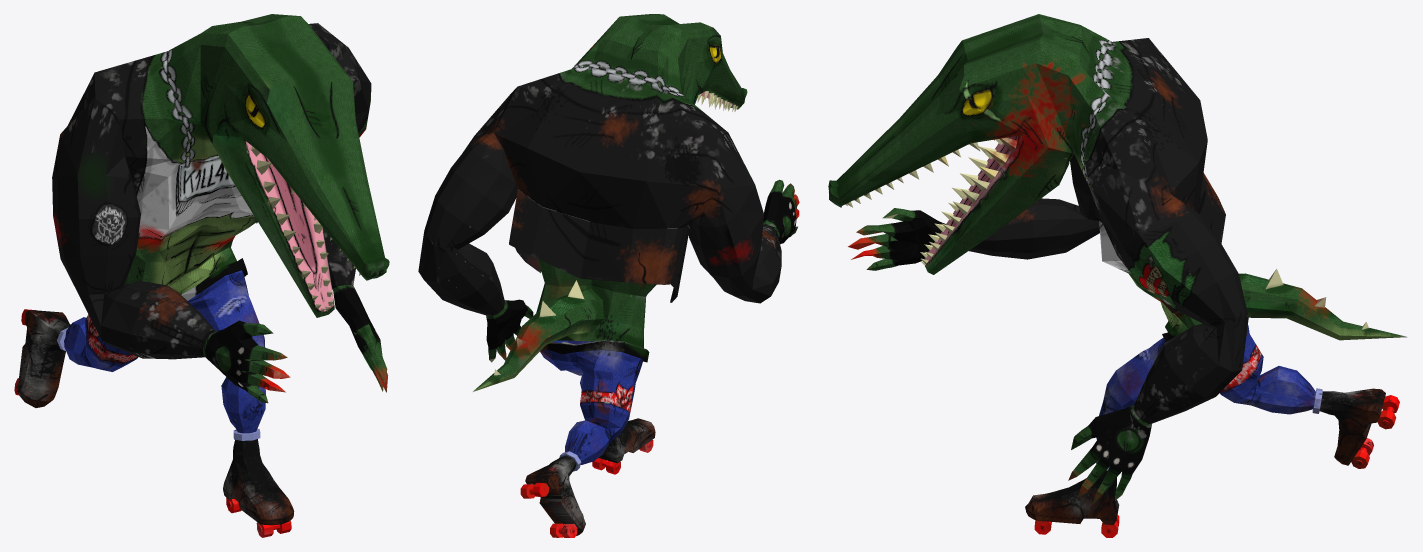
The model's file is cocodrilaBonesSelect_000003.obj.
The picture shows the model from 3 angles, left to right: view 1: azimuth 30°, elevation 25°; view 2: azimuth 150°, elevation 25°; view 3: azimuth 270°, elevation 25°; orthographic projection. The views are drawn at different scales.
Visible parts, largest first — view 1: Crocodile.002_Cylinder.002; view 2: Crocodile.002_Cylinder.002; view 3: Crocodile.002_Cylinder.002.
Part boxes in pixels (<box>): Crocodile.002_Cylinder.002: <box>14,14,389,537</box>; Crocodile.002_Cylinder.002: <box>418,14,799,537</box>; Crocodile.002_Cylinder.002: <box>828,14,1406,537</box>.
Bounding box in the file's own units: 4.05 × 5.84 × 6.19.
